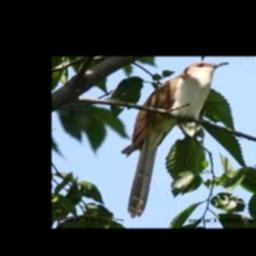Cuckoo: (121, 62, 230, 218)
